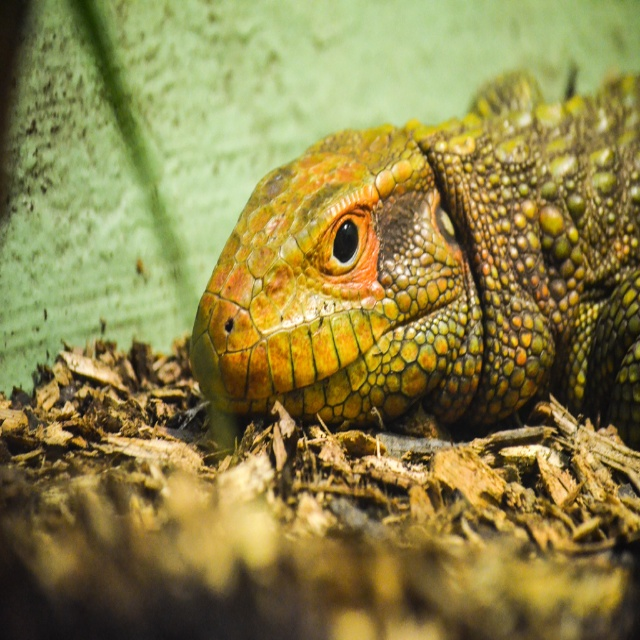Lizard: (188, 71, 640, 436)
